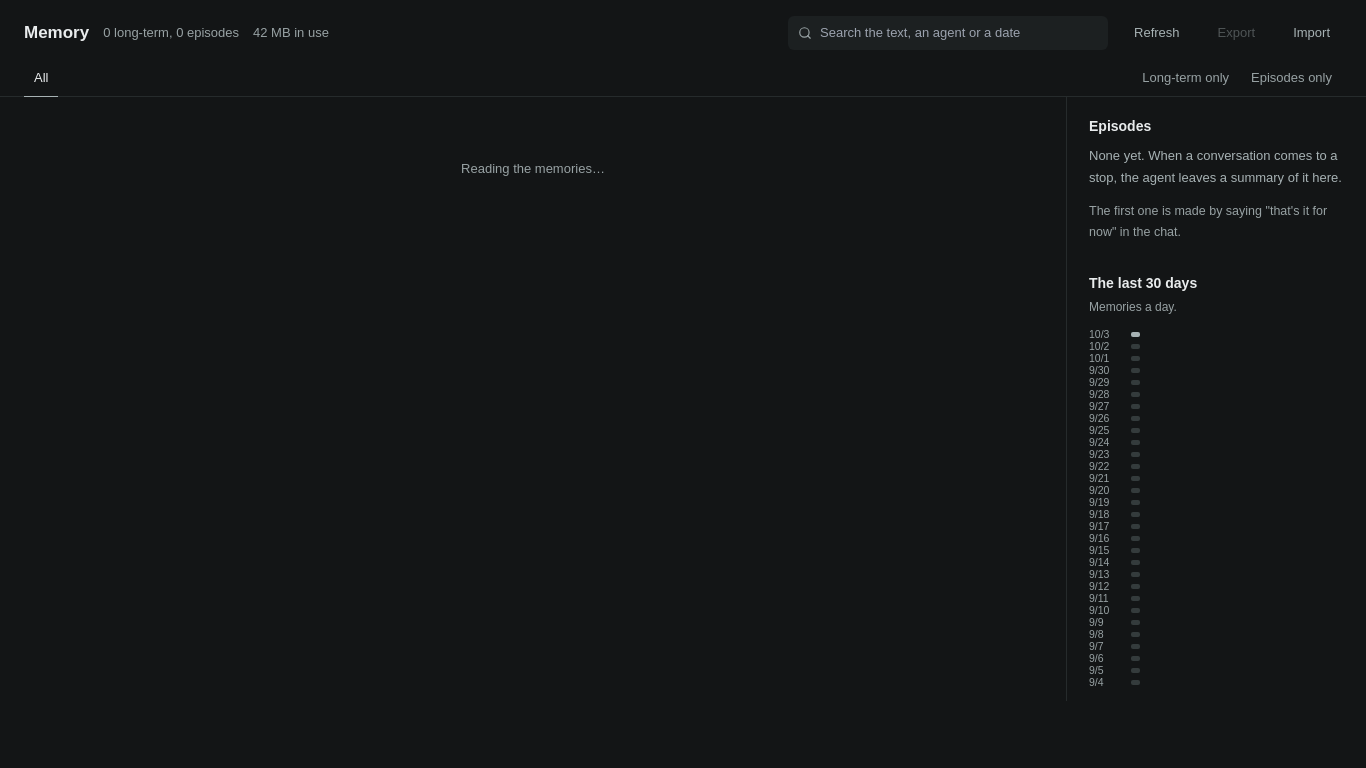
narrowing what is on the axis › says so when the filters leave nothing
Check: the element with test id "memory-density" is shown, box [1089, 328, 1140, 688]
Type "zzz" into the field labelled "Search the text, an agent or a date".
click(959, 33); type("zzz")  # box [820, 22, 1098, 44]
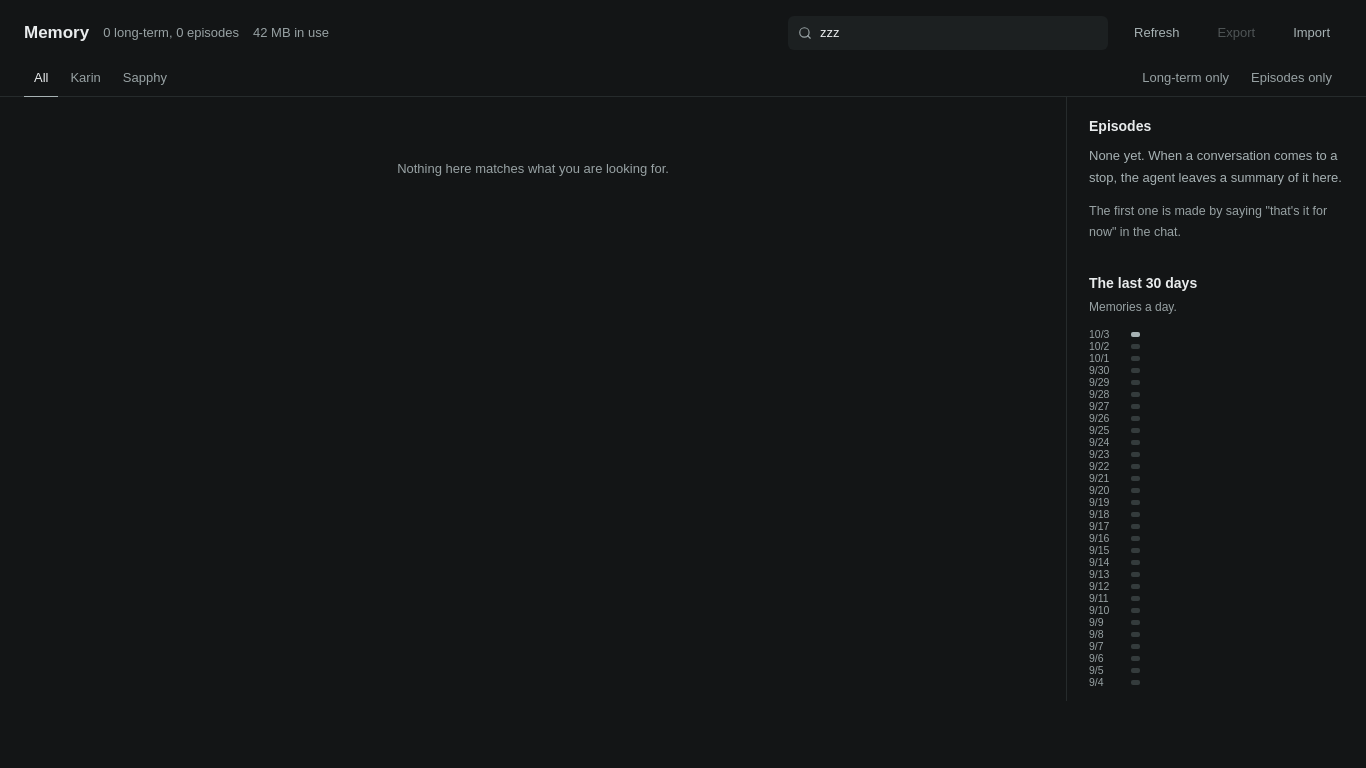
Check: the text "Nothing here matches what you are looking for." is shown, box [397, 161, 669, 176]
